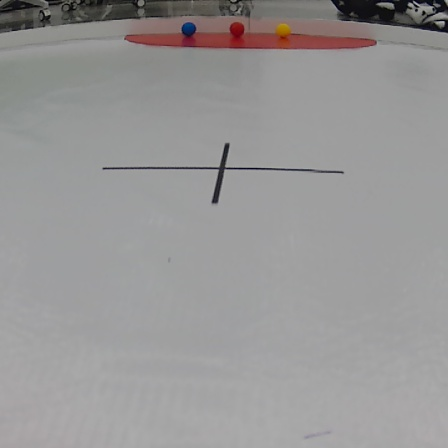blue: (181, 23, 197, 35)
red: (226, 20, 248, 36)
red_base: (121, 30, 380, 52)
yellow: (274, 21, 293, 37)
